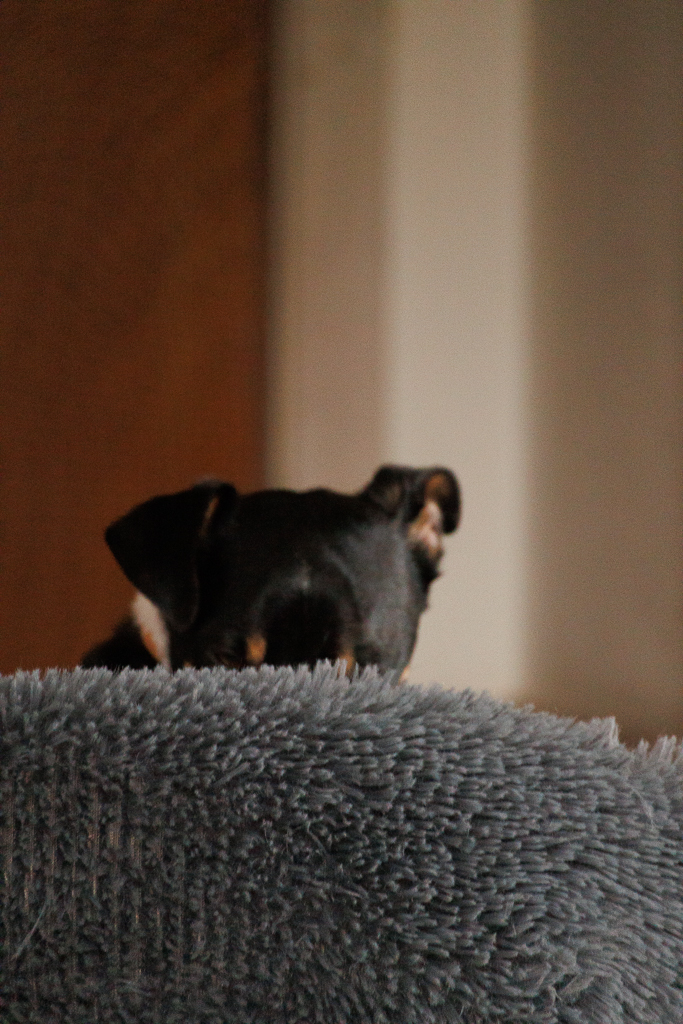Dog: (47, 434, 483, 714)
